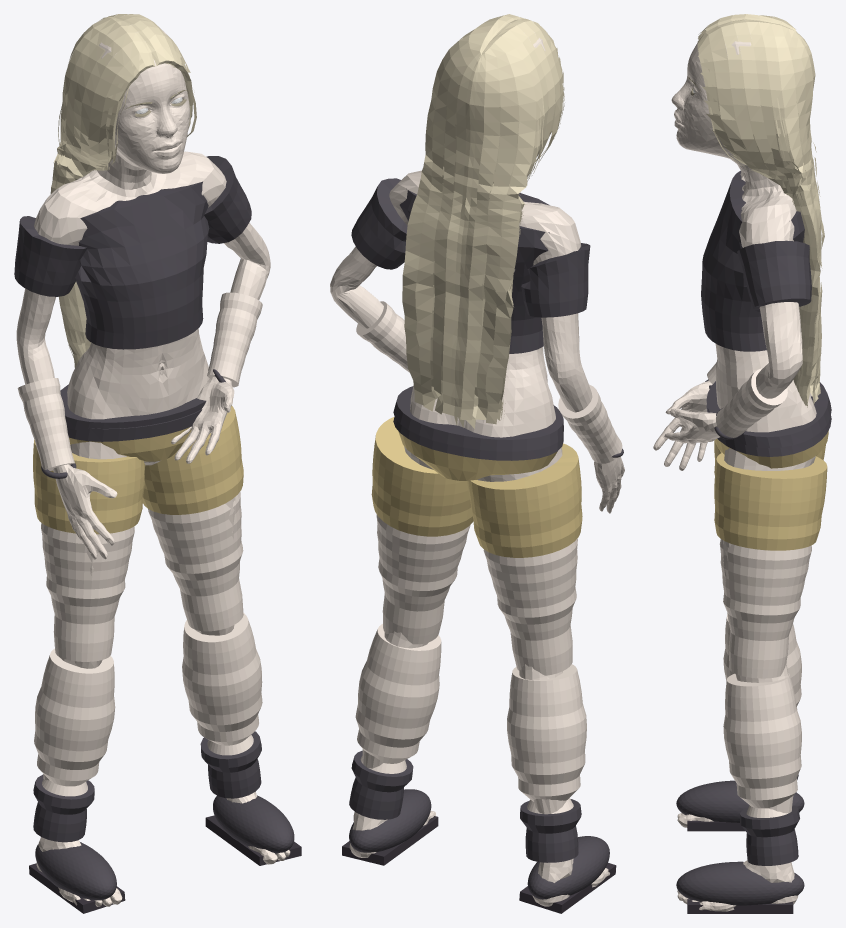
The model's file is kesha.glb.
3 views of the same model, side by side, from view 1: azimuth 30°, elevation 25°; view 2: azimuth 150°, elevation 25°; view 3: azimuth 270°, elevation 25° (orthographic). The views are drawn at different scales.
Visible parts, largest first — view 1: body, top, hair_mh, tights_shin_R, tights_thigh_R, tights_shin_L, tights_thigh_L, shorts_L, shorts_R, sleeve_R, glove_R, glove_L (+10 smaller); view 2: hair_mh, body, tights_shin_R, shorts_R, tights_shin_L, tights_thigh_R, tights_thigh_L, shorts_L, sleeve_R, belt_1.78, sleeve_L, top (+10 smaller); view 3: hair_mh, body, tights_thigh_L, tights_shin_L, shorts_L, top, sleeve_L, shoe_L, boot_L, shoe_R, belt_1.78, glove_L (+5 smaller).
Boxes of the visible parts, left/top/right/bottom form: body: left=16, top=26, right=290, bottom=906; top: left=45, top=181, right=209, bottom=349; hair_mh: left=50, top=14, right=196, bottom=367; tights_shin_R: left=34, top=648, right=115, bottom=796; tights_thigh_R: left=41, top=523, right=134, bottom=661; tights_shin_L: left=182, top=612, right=262, bottom=755; tights_thigh_L: left=148, top=492, right=243, bottom=631; shorts_L: left=143, top=406, right=243, bottom=514; shorts_R: left=33, top=439, right=145, bottom=534; sleeve_R: left=14, top=216, right=86, bottom=296; glove_R: left=17, top=378, right=74, bottom=470; glove_L: left=207, top=292, right=262, bottom=387; hair_mh: left=402, top=14, right=564, bottom=428; body: left=330, top=23, right=624, bottom=906; tights_shin_R: left=507, top=664, right=586, bottom=813; shorts_R: left=467, top=443, right=582, bottom=557; tights_shin_L: left=355, top=624, right=441, bottom=773; tights_thigh_R: left=483, top=538, right=577, bottom=675; tights_thigh_L: left=376, top=514, right=470, bottom=644; shorts_L: left=371, top=417, right=473, bottom=536; sleeve_R: left=521, top=243, right=590, bottom=317; belt_1.78: left=393, top=386, right=563, bottom=451; sleeve_L: left=351, top=178, right=407, bottom=269; top: left=399, top=188, right=549, bottom=353; hair_mh: left=697, top=14, right=824, bottom=407; body: left=653, top=22, right=816, bottom=911; tights_thigh_L: left=719, top=539, right=811, bottom=678; tights_shin_L: left=723, top=673, right=801, bottom=817; shorts_L: left=714, top=452, right=827, bottom=550; top: left=701, top=170, right=804, bottom=351; sleeve_L: left=737, top=240, right=811, bottom=311; shoe_L: left=676, top=861, right=804, bottom=905; boot_L: left=740, top=805, right=799, bottom=865; shoe_R: left=676, top=780, right=804, bottom=822; belt_1.78: left=706, top=381, right=831, bottom=447; glove_L: left=716, top=368, right=787, bottom=437.
Bounding box in the file's own units: 1.04 × 3.3 × 0.6395.
